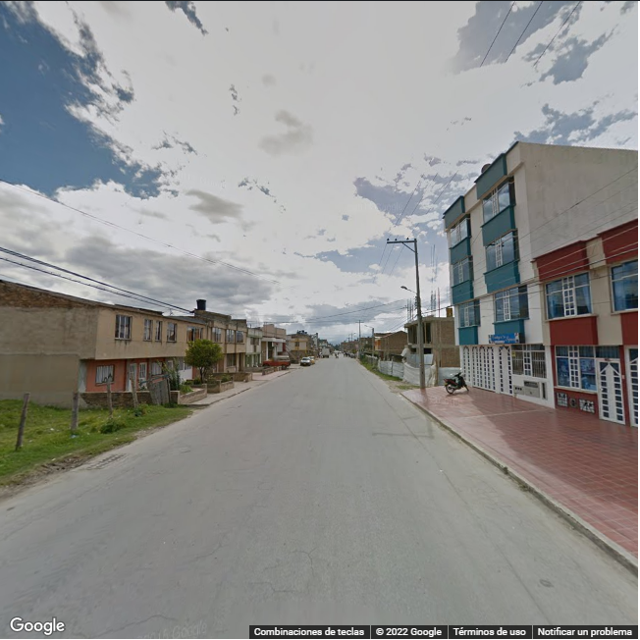D00: (88, 611, 165, 638), (184, 541, 228, 568), (304, 548, 319, 581)
D10: (265, 585, 309, 594)
